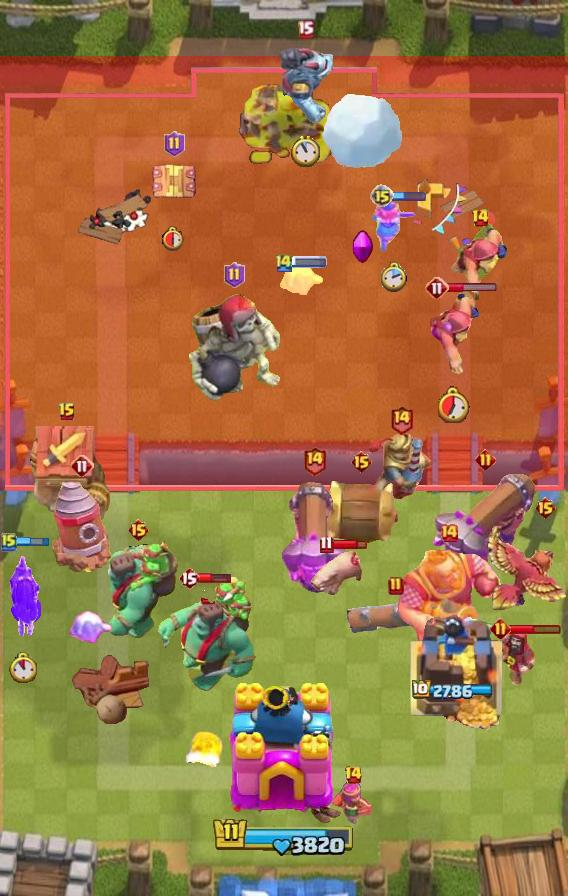bowler: (496, 628, 538, 686)
cannon: (328, 781, 378, 827)
clock: (212, 816, 356, 858)
electro-giant: (184, 291, 284, 403)
elixir: (438, 385, 470, 423), (291, 135, 320, 167), (9, 653, 37, 684), (381, 261, 407, 293), (162, 225, 186, 251)
elixir-golem-small: (277, 44, 333, 124)
emote: (509, 623, 563, 635), (446, 283, 498, 294), (391, 190, 427, 202), (291, 256, 327, 268), (332, 538, 367, 550), (14, 537, 50, 548), (198, 572, 231, 584)
fireball: (424, 291, 484, 379), (449, 222, 511, 306)
furnace: (432, 469, 538, 575), (280, 478, 348, 598)
giant: (306, 549, 364, 599)
giant-skeleton: (394, 547, 505, 649)
goblin-ball: (5, 545, 41, 639)
goblin-brawler: (150, 160, 198, 204)
golden-knight: (486, 523, 568, 611)
hog-rider: (370, 200, 418, 254)
king-tower: (222, 680, 346, 826)
lava-hound: (155, 575, 259, 697), (96, 538, 180, 644)
magic-archer: (52, 479, 112, 573)
minion: (347, 598, 445, 634)
mirror: (275, 263, 325, 301), (64, 611, 114, 649)
queen-tower: (403, 613, 506, 731)
ram-rider: (365, 430, 437, 502)
selected: (413, 679, 496, 700)
skeleton-king-skill: (352, 230, 374, 264)
sparky: (24, 425, 110, 523)
text: (302, 445, 327, 476), (390, 405, 415, 435), (370, 184, 394, 208), (425, 276, 449, 300), (70, 454, 94, 478), (163, 131, 185, 157), (351, 450, 374, 474), (535, 496, 558, 520), (127, 518, 150, 542), (224, 262, 245, 288), (178, 566, 200, 590), (476, 449, 497, 471), (490, 617, 511, 639), (274, 252, 294, 273), (439, 523, 459, 543), (470, 208, 489, 228), (344, 765, 363, 785), (58, 402, 76, 422), (1, 532, 17, 552), (388, 576, 404, 596), (297, 21, 314, 39), (319, 535, 334, 553)
the-log: (316, 479, 406, 547)
valkyrie: (178, 727, 230, 771)
wall-breaker: (321, 92, 405, 170)
